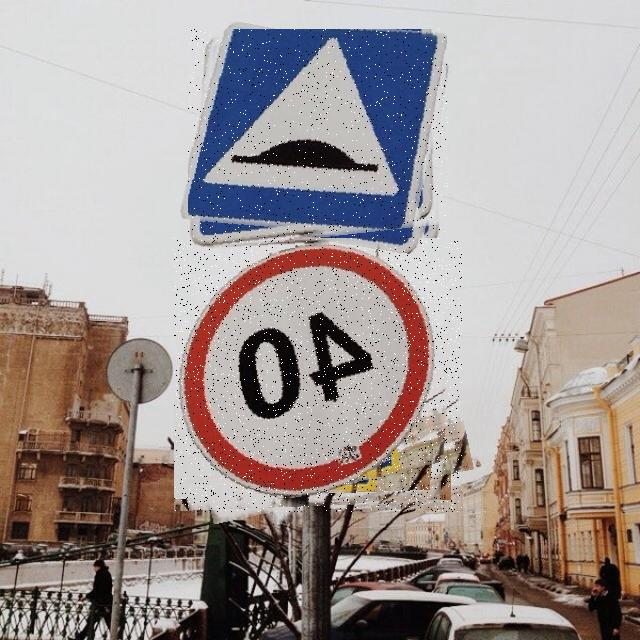hump: (188, 29, 448, 253)
speed limit 40: (174, 238, 462, 512)
